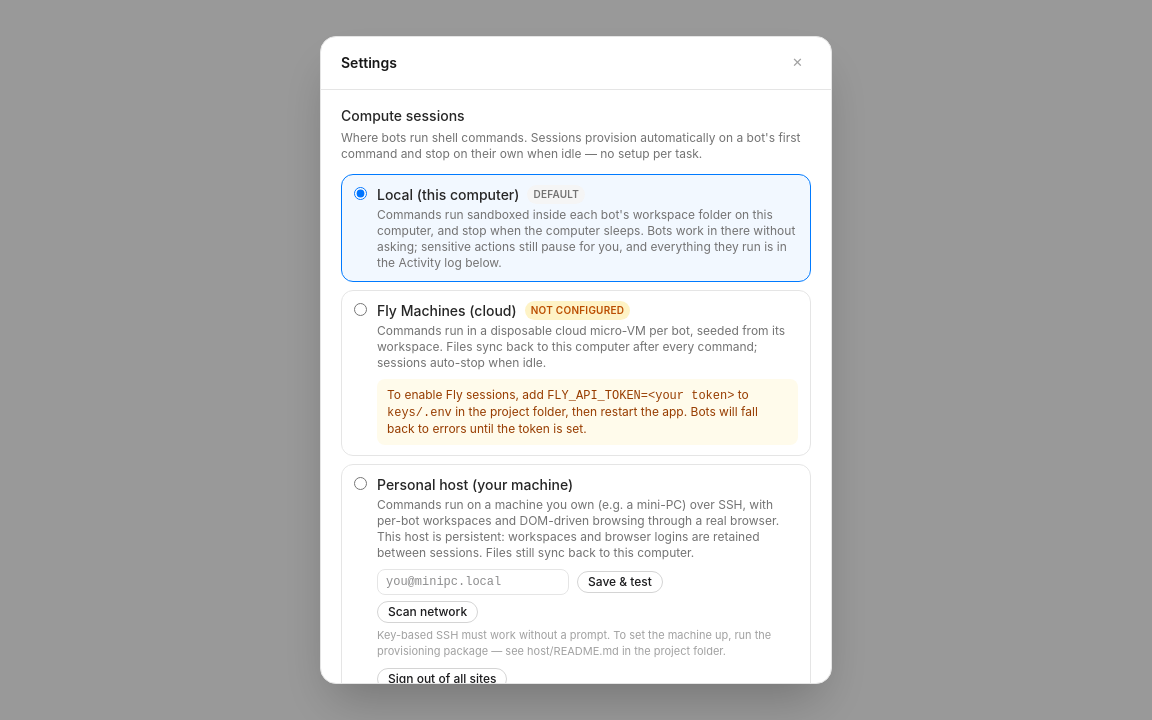
personal-host discovery (agent-computer spec delta) › says so plainly when nothing advertises
Click the button "Scan network". click: (428, 612)
box: [377,600,478,622]
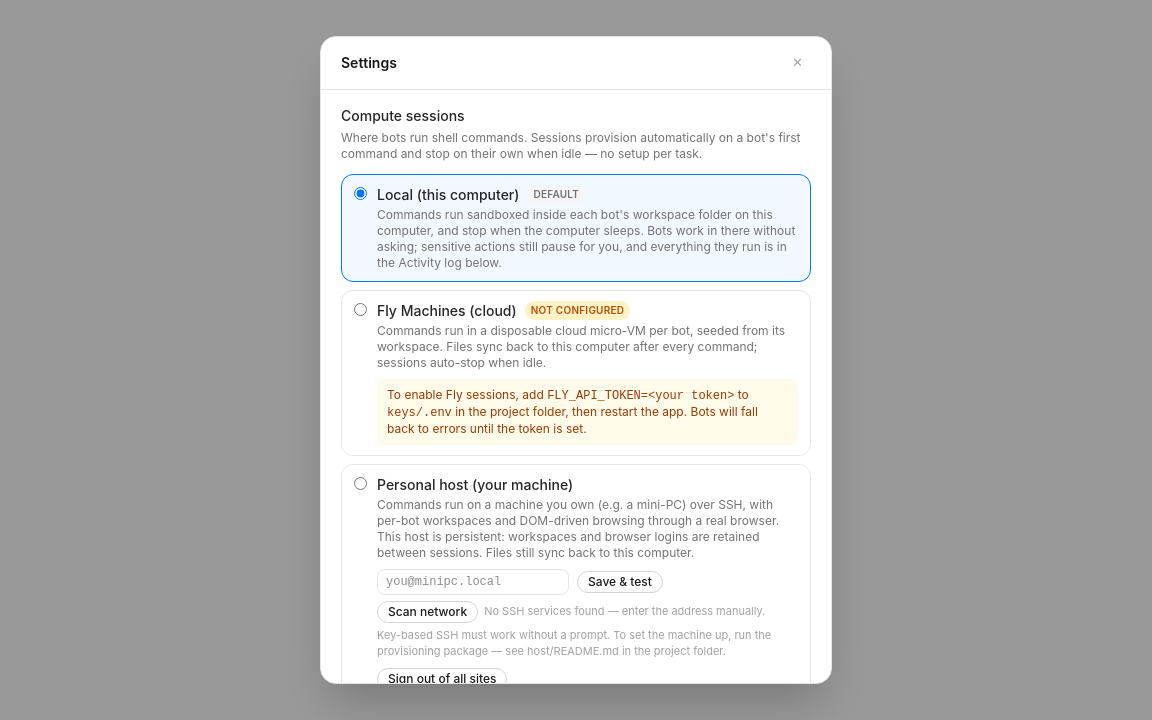
Now the text "No SSH services found — enter the address manually." is shown, box [484,603,765,620]
